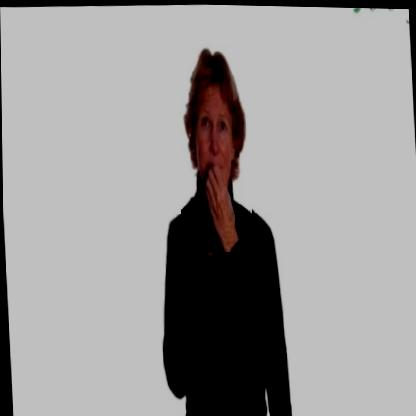Food: (172, 35, 253, 253)
